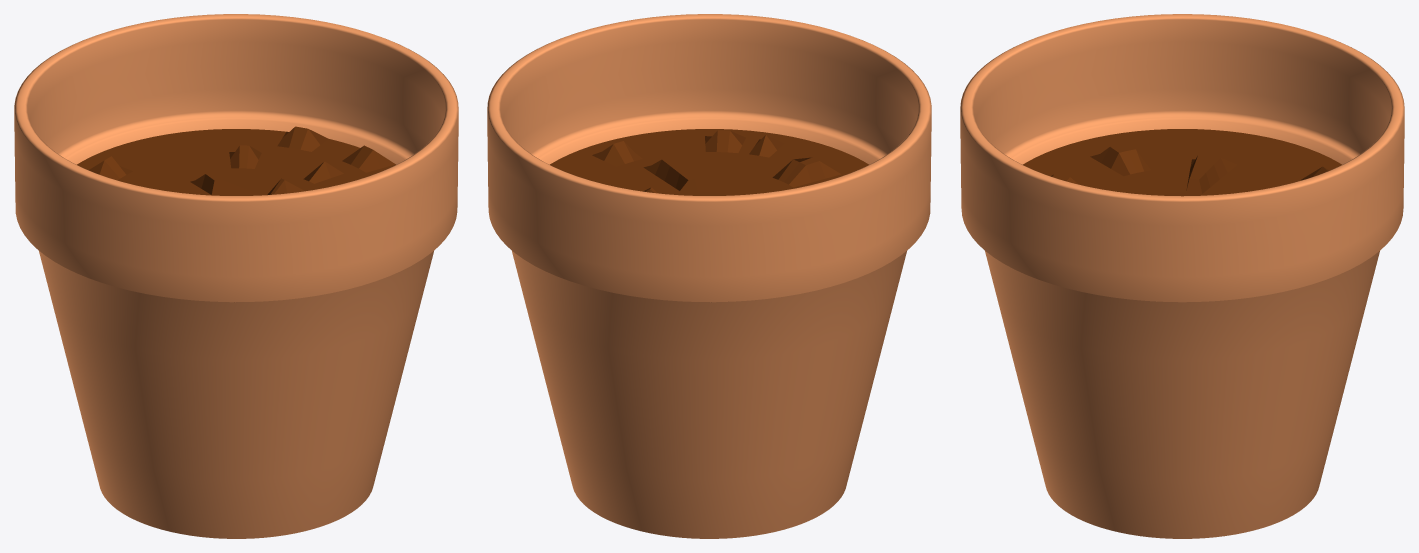
The model's file is flower_pot.fbx.
3 renders of one model, left to right at view 1: azimuth 30°, elevation 25°; view 2: azimuth 150°, elevation 25°; view 3: azimuth 270°, elevation 25°, orthographic.
Visible parts, largest first — view 1: Pot; view 2: Pot; view 3: Pot.
Part boxes in pixels (bbox=[...]): Pot: bbox=[14, 14, 458, 538]; Pot: bbox=[487, 14, 931, 538]; Pot: bbox=[960, 14, 1404, 538].
Bounding box in the file's own units: 8.17 × 7.62 × 8.17.
